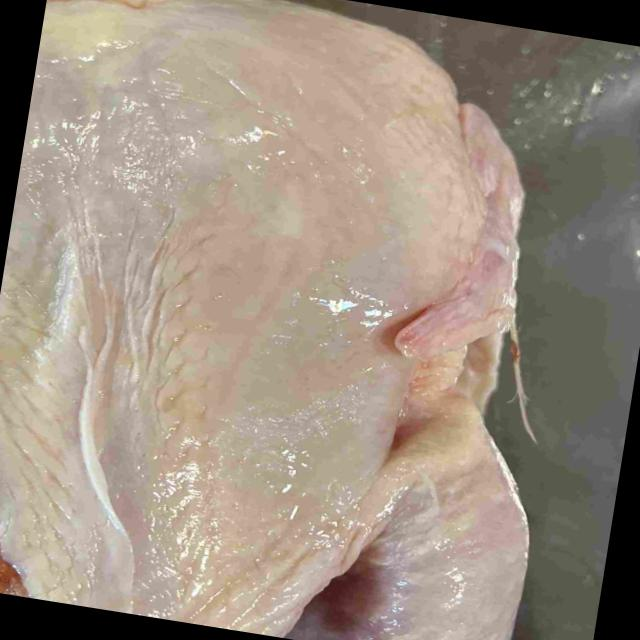breast: (0, 5, 471, 638)
leg: (279, 424, 535, 640)
